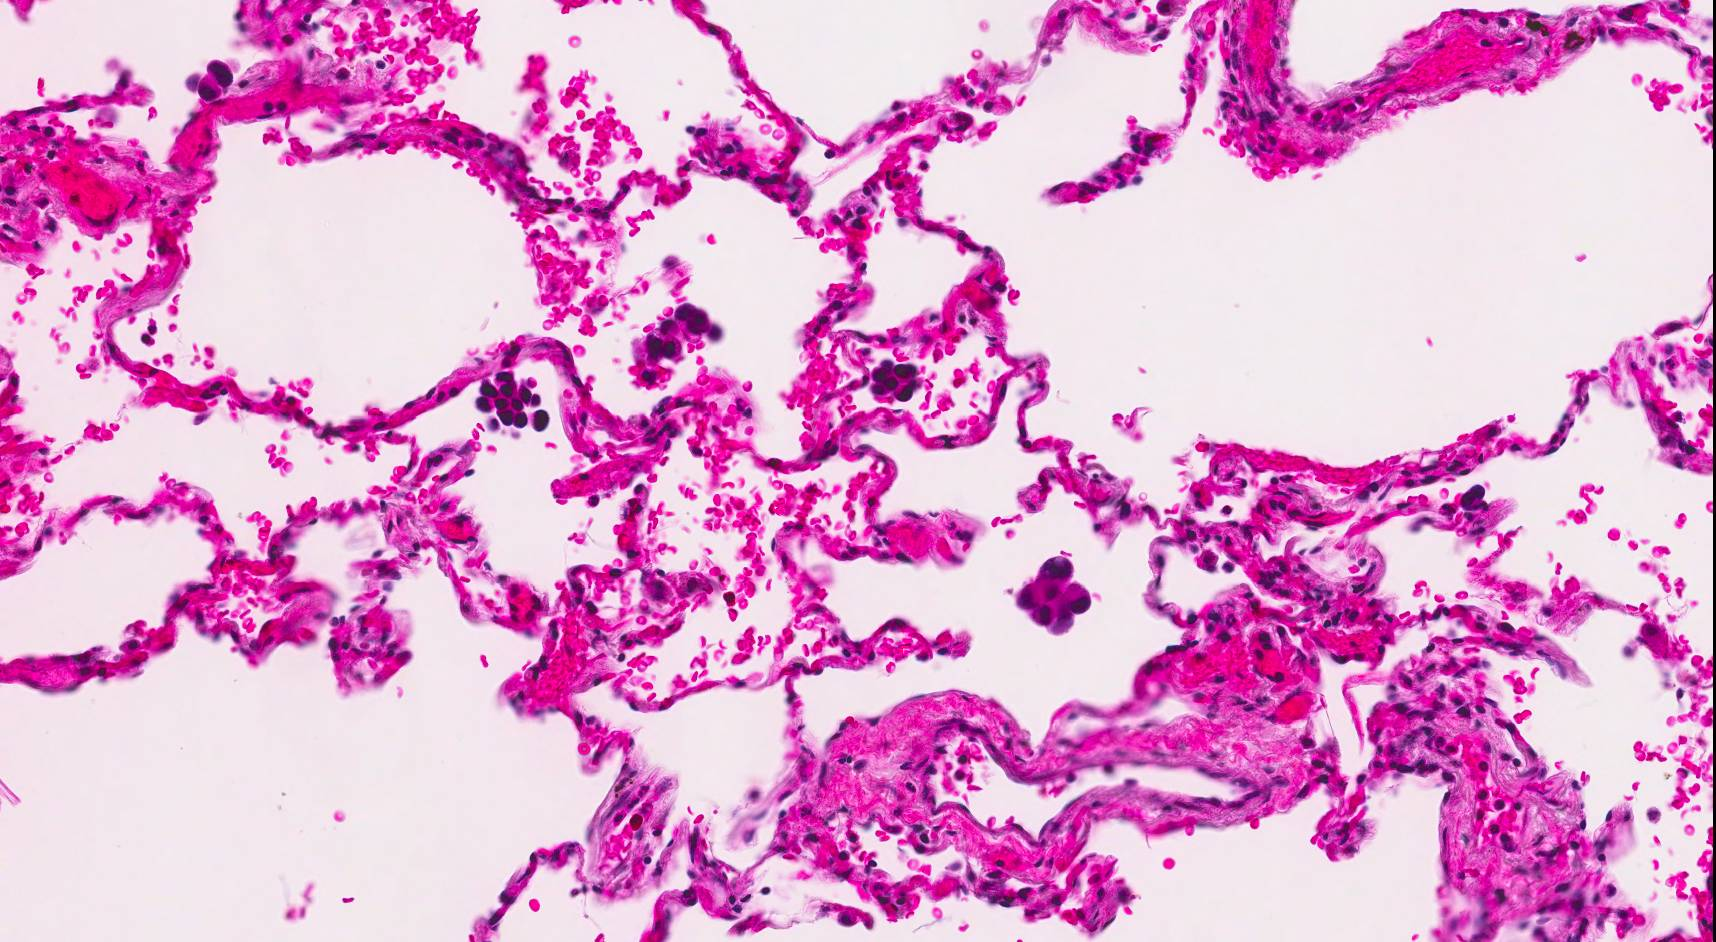stas: (1012, 551, 1097, 639), (473, 369, 554, 434), (639, 303, 727, 361), (867, 358, 922, 404), (180, 59, 234, 100), (1457, 481, 1489, 515)
